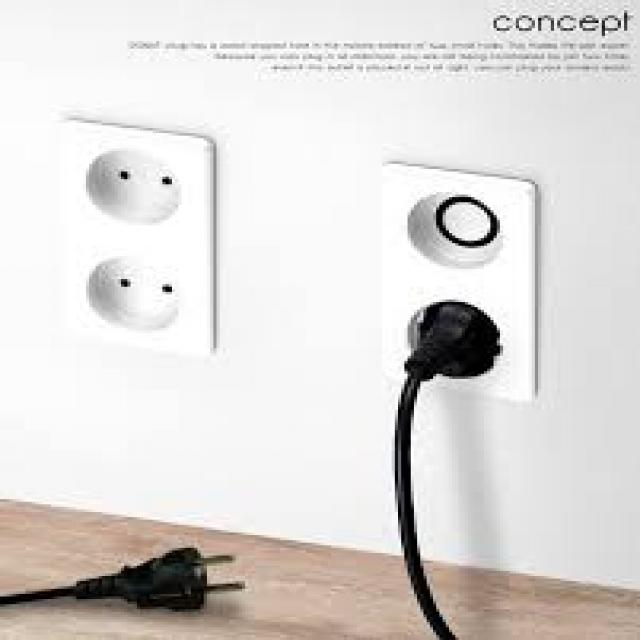typeb: (14, 95, 253, 399)
